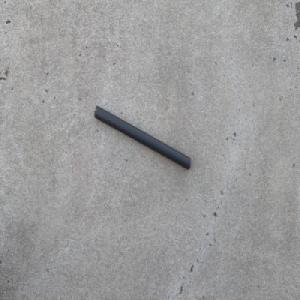LuggagePart: (93, 104, 191, 171)
